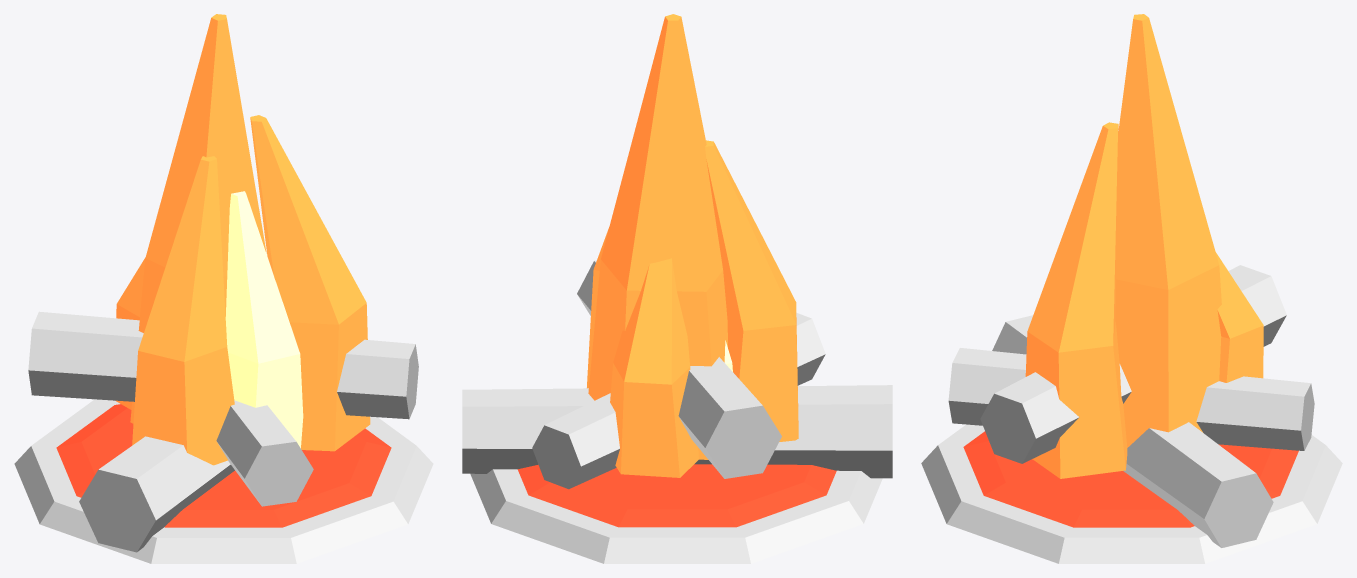
Rendered from rh_hearth_fire.glb.
3 renders of one model, left to right at view 1: azimuth 30°, elevation 25°; view 2: azimuth 150°, elevation 25°; view 3: azimuth 270°, elevation 25°, orthographic.
Visible parts, largest first — view 1: flames, rh_hearth_fire; view 2: rh_hearth_fire, flames; view 3: rh_hearth_fire, flames.
Boxes of the visible parts, x1,y1,x2,y2 form: flames: (115, 14, 370, 465); rh_hearth_fire: (14, 311, 433, 563); rh_hearth_fire: (462, 260, 892, 563); flames: (587, 14, 798, 477); rh_hearth_fire: (921, 265, 1342, 563); flames: (1025, 14, 1263, 478).
Bounding box in the file's own units: 0.9798 × 1.19 × 0.9848.
